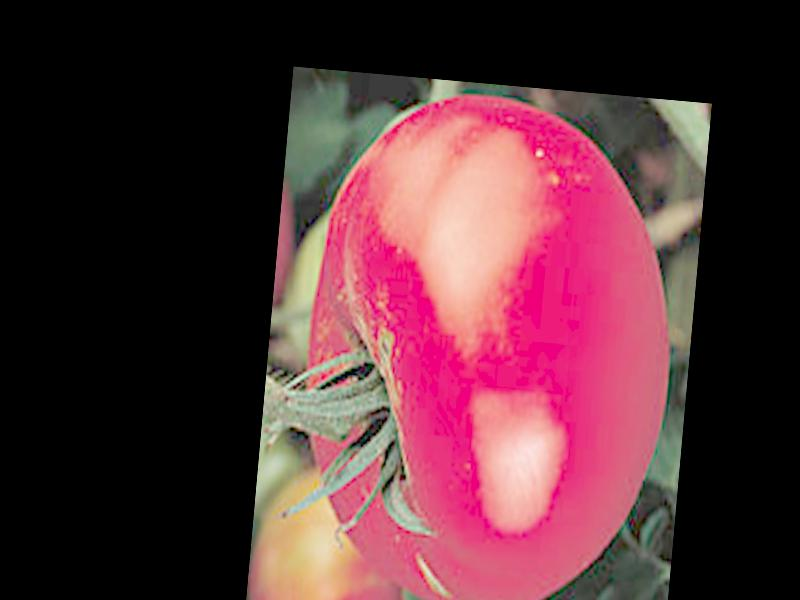Tomato: (288, 85, 691, 600)
